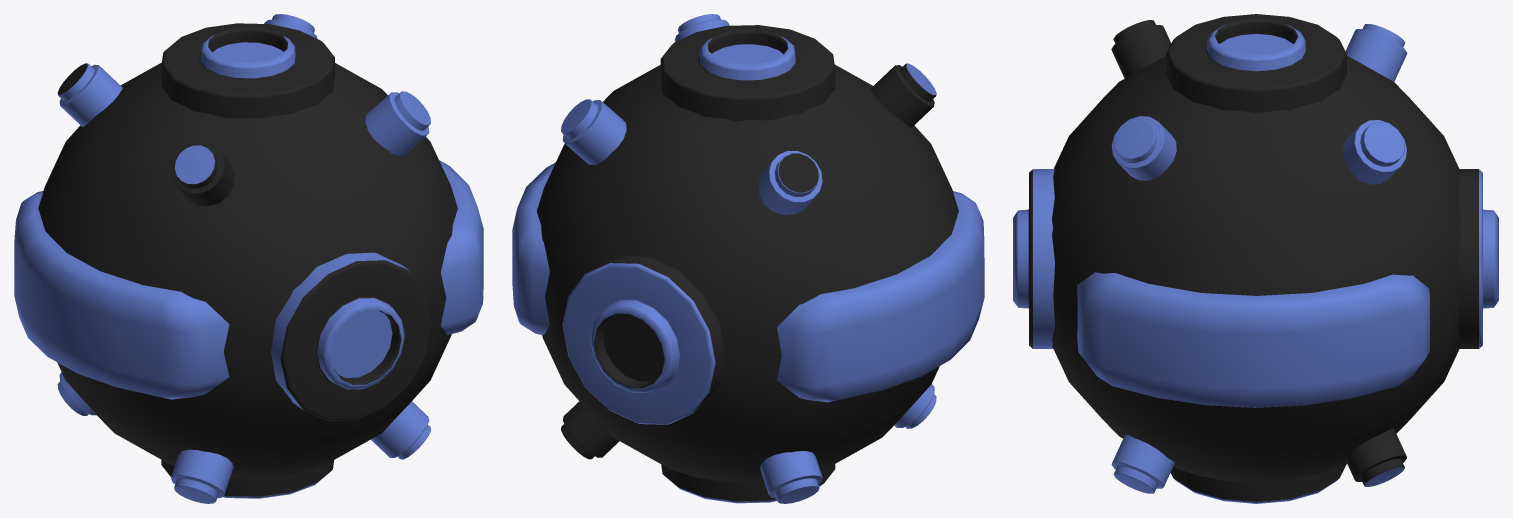
Rendered from _Bonus_object_02.fbx.
3 views of the same model, side by side, from view 1: azimuth 30°, elevation 25°; view 2: azimuth 150°, elevation 25°; view 3: azimuth 270°, elevation 25° (orthographic). The views are drawn at different scales.
Parts seen in each view (by area): view 1: Bonus_object_02; view 2: Bonus_object_02; view 3: Bonus_object_02.
Boxes of the visible parts, x1,y1,x2,y2 form: Bonus_object_02: (14, 14, 483, 503); Bonus_object_02: (512, 14, 984, 503); Bonus_object_02: (1013, 14, 1498, 503).
Bounding box in the file's own units: 101 × 102 × 101.
1 material, 1 textured.
